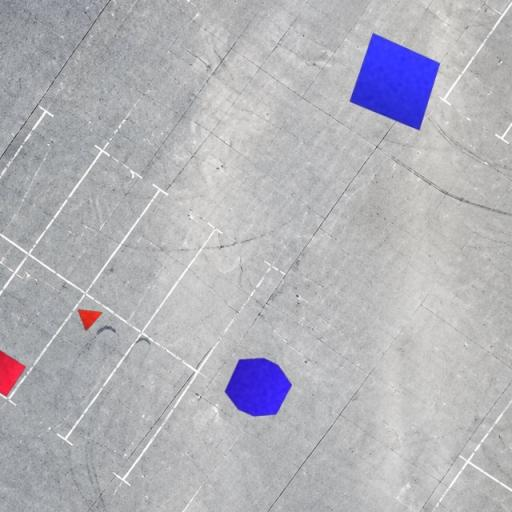BLUE_SQUARE: (349, 32, 441, 131)
RED_SQUARE: (0, 346, 27, 398)
